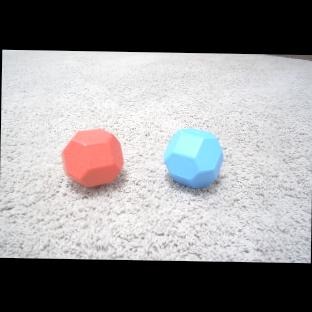V5_BLUE: (163, 125, 225, 189)
V5_RED: (63, 127, 123, 188)
